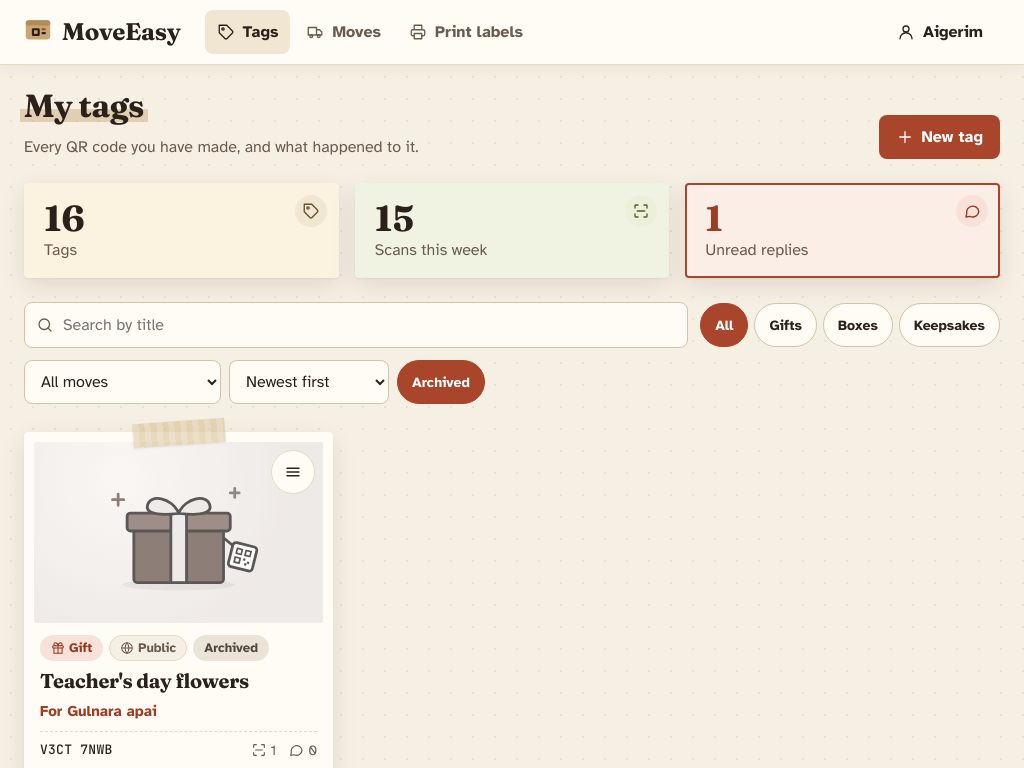
it: archive and delete (#20) › unarchives from the card menu in the Archived filter
Click the button named "More actions for".
click(293, 472)  # box x1=271 y1=450 x2=315 y2=494
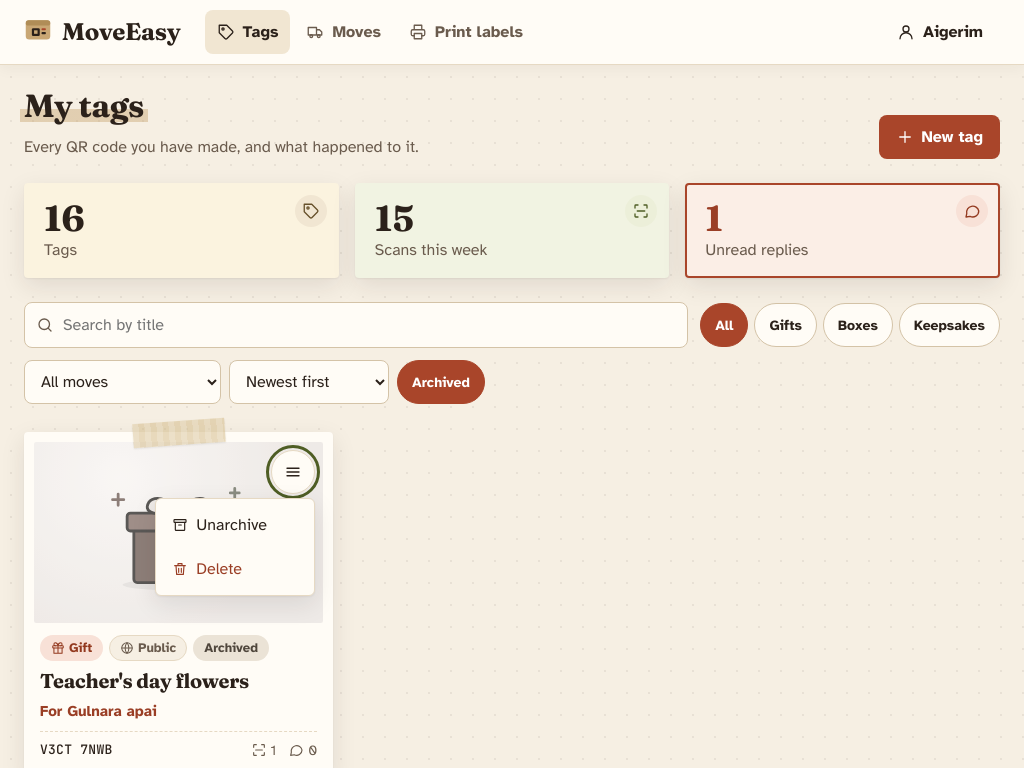
Click the menu item "Unarchive".
click(235, 525)  # box x1=160 y1=503 x2=310 y2=547
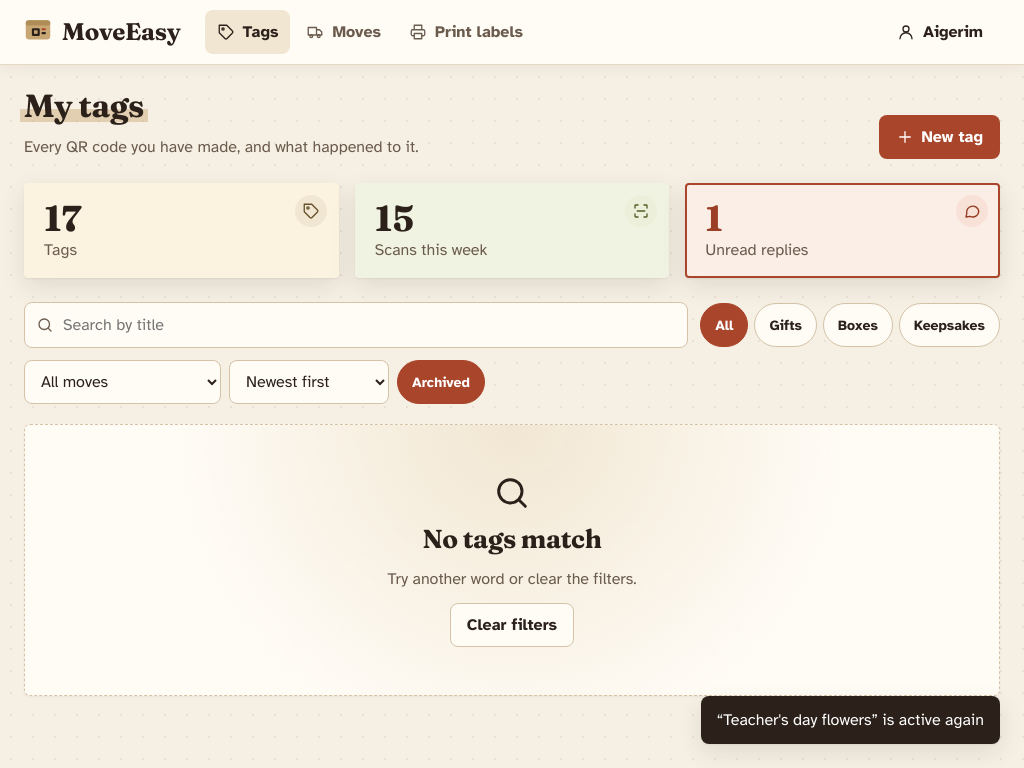
Now the text "“Teacher's day flowers” is active again" is shown, box x1=717 y1=708 x2=984 y2=732
